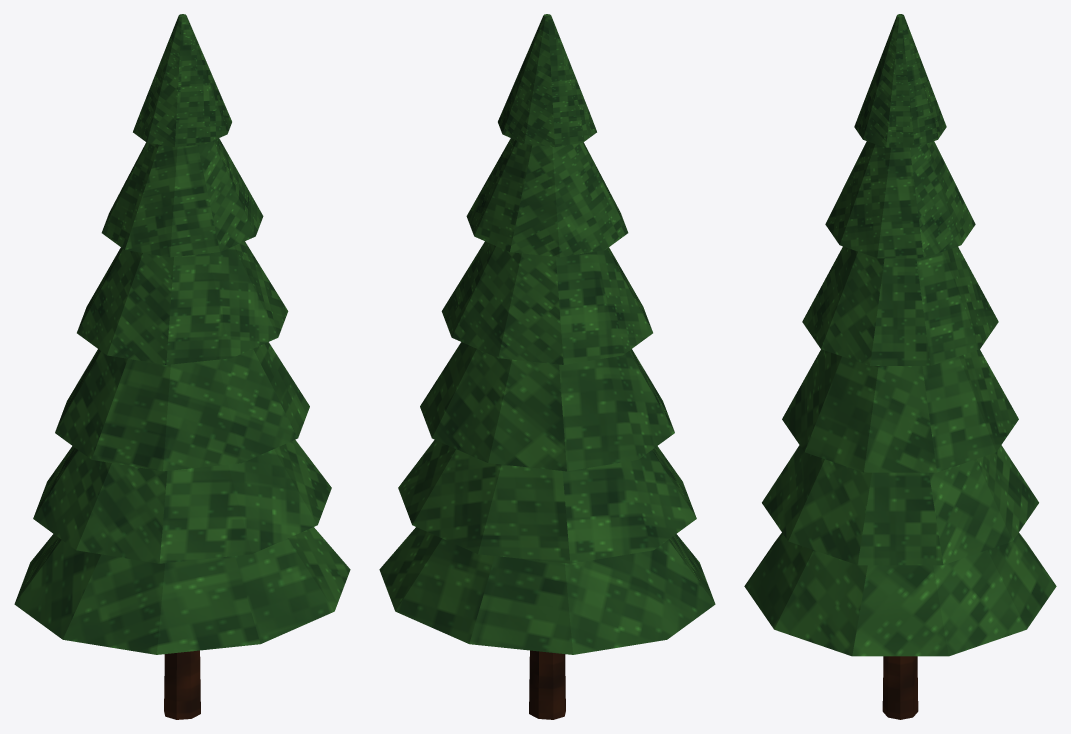
Rendered from nodo-tree-pine-v2-K4Nhir6n.glb.
3 views of the same model, side by side, from view 1: azimuth 30°, elevation 25°; view 2: azimuth 150°, elevation 25°; view 3: azimuth 270°, elevation 25° (orthographic).
Visible parts, largest first — view 1: nodo-tree-pine-v2-realista; view 2: nodo-tree-pine-v2-realista; view 3: nodo-tree-pine-v2-realista.
Part boxes in pixels (box(x1,y1,x2,y2)): nodo-tree-pine-v2-realista: box(14, 14, 350, 719); nodo-tree-pine-v2-realista: box(379, 14, 715, 719); nodo-tree-pine-v2-realista: box(744, 14, 1056, 719).
Bounding box in the file's own units: 16.86 × 39 × 15.87.
1 material, 1 textured.
